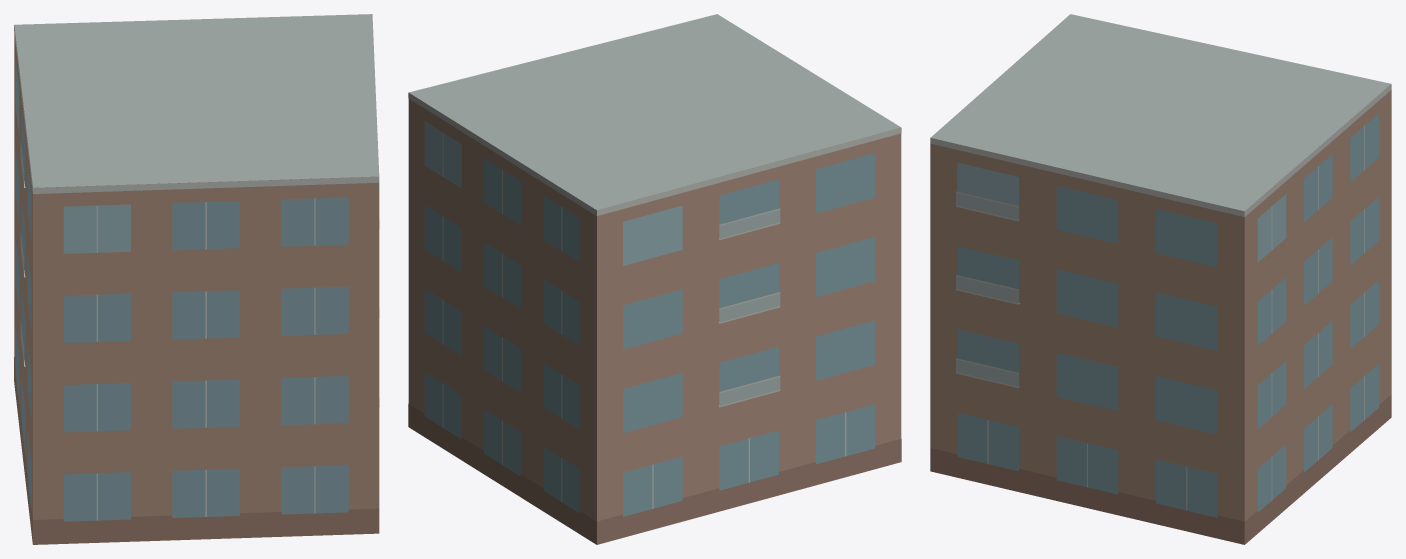
Rendered from survey-upis-32622153.glb.
The picture shows the model from 3 angles, left to right: view 1: azimuth 30°, elevation 25°; view 2: azimuth 150°, elevation 25°; view 3: azimuth 270°, elevation 25°; orthographic projection. The views are drawn at different scales.
Parts seen in each view (by area): view 1: survey-upis-32622153.tmp; view 2: survey-upis-32622153.tmp; view 3: survey-upis-32622153.tmp.
Boxes of the visible parts, x1=… form: survey-upis-32622153.tmp: x1=14, y1=14, x2=379, y2=544; survey-upis-32622153.tmp: x1=408, y1=14, x2=901, y2=544; survey-upis-32622153.tmp: x1=930, y1=14, x2=1391, y2=544.
Size of the model in its own units: 17.77 by 14 by 17.55.
